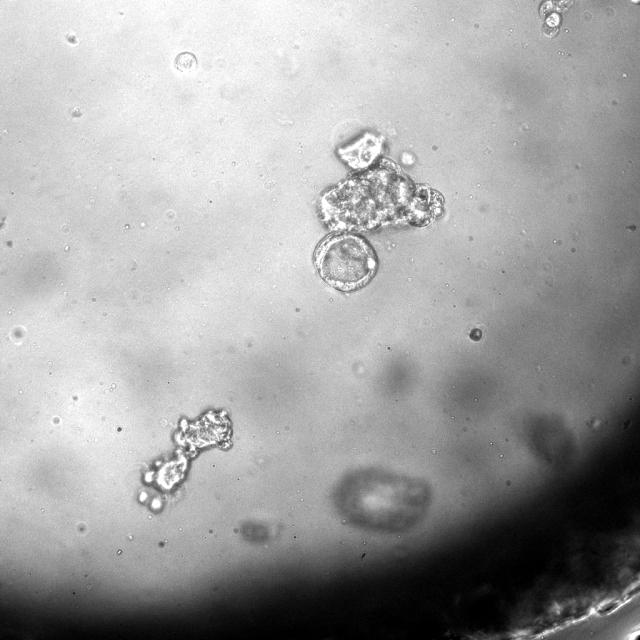organoid: (314, 130, 444, 292), (137, 408, 232, 513), (332, 467, 431, 532), (524, 414, 574, 465), (538, 0, 574, 37), (239, 519, 275, 543), (175, 53, 197, 72), (469, 328, 482, 341)
